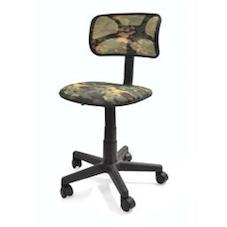chair: (31, 7, 197, 225)
